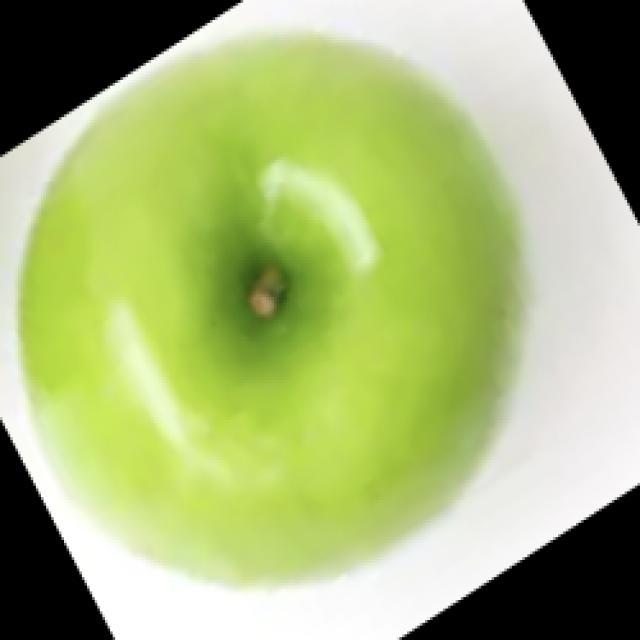Apple: (16, 30, 527, 589)
